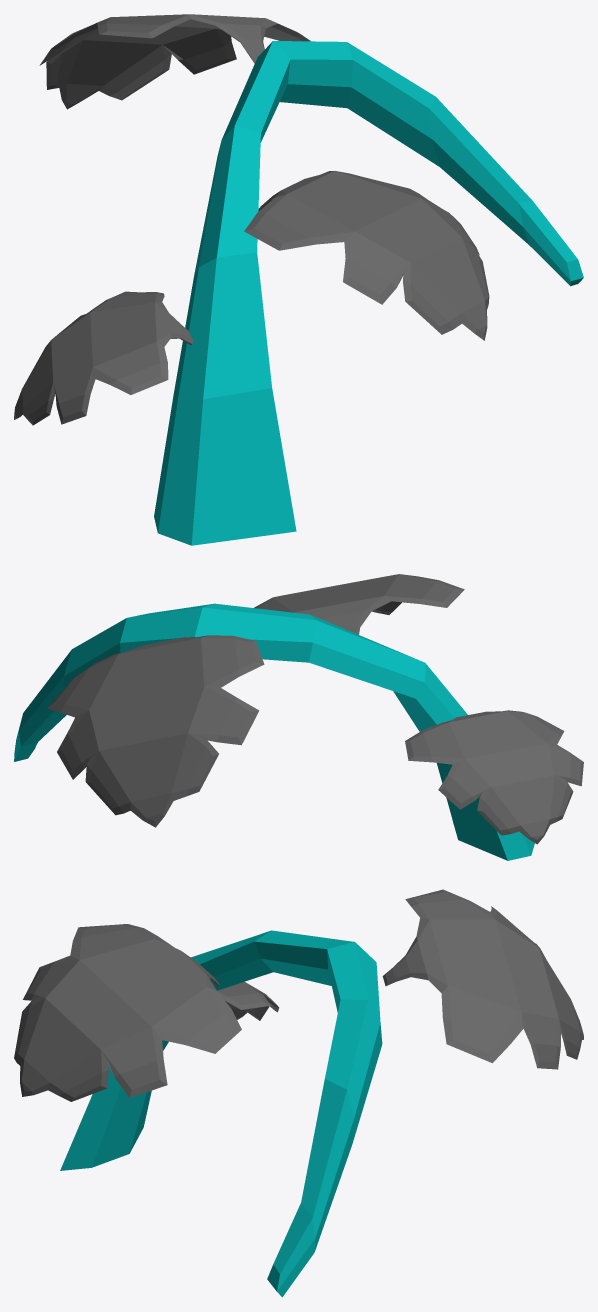
Rendered from winter_2.glb.
The picture shows the model from 3 angles, top to bottom: view 1: azimuth 30°, elevation 25°; view 2: azimuth 150°, elevation 25°; view 3: azimuth 270°, elevation 25°; orthographic projection. The views are drawn at different scales.
Parts seen in each view (by area): view 1: Plane041, Plane041_1; view 2: Plane041_1, Plane041; view 3: Plane041_1, Plane041.
Boxes of the visible parts, box(x1,y1,x2,y2) form: Plane041: box(154, 41, 583, 545); Plane041_1: box(14, 14, 489, 425); Plane041_1: box(47, 574, 583, 844); Plane041: box(14, 603, 534, 860); Plane041_1: box(14, 889, 583, 1101); Plane041: box(60, 930, 382, 1297).
Bounding box in the file's own units: 46.84 × 25.44 × 44.02.
